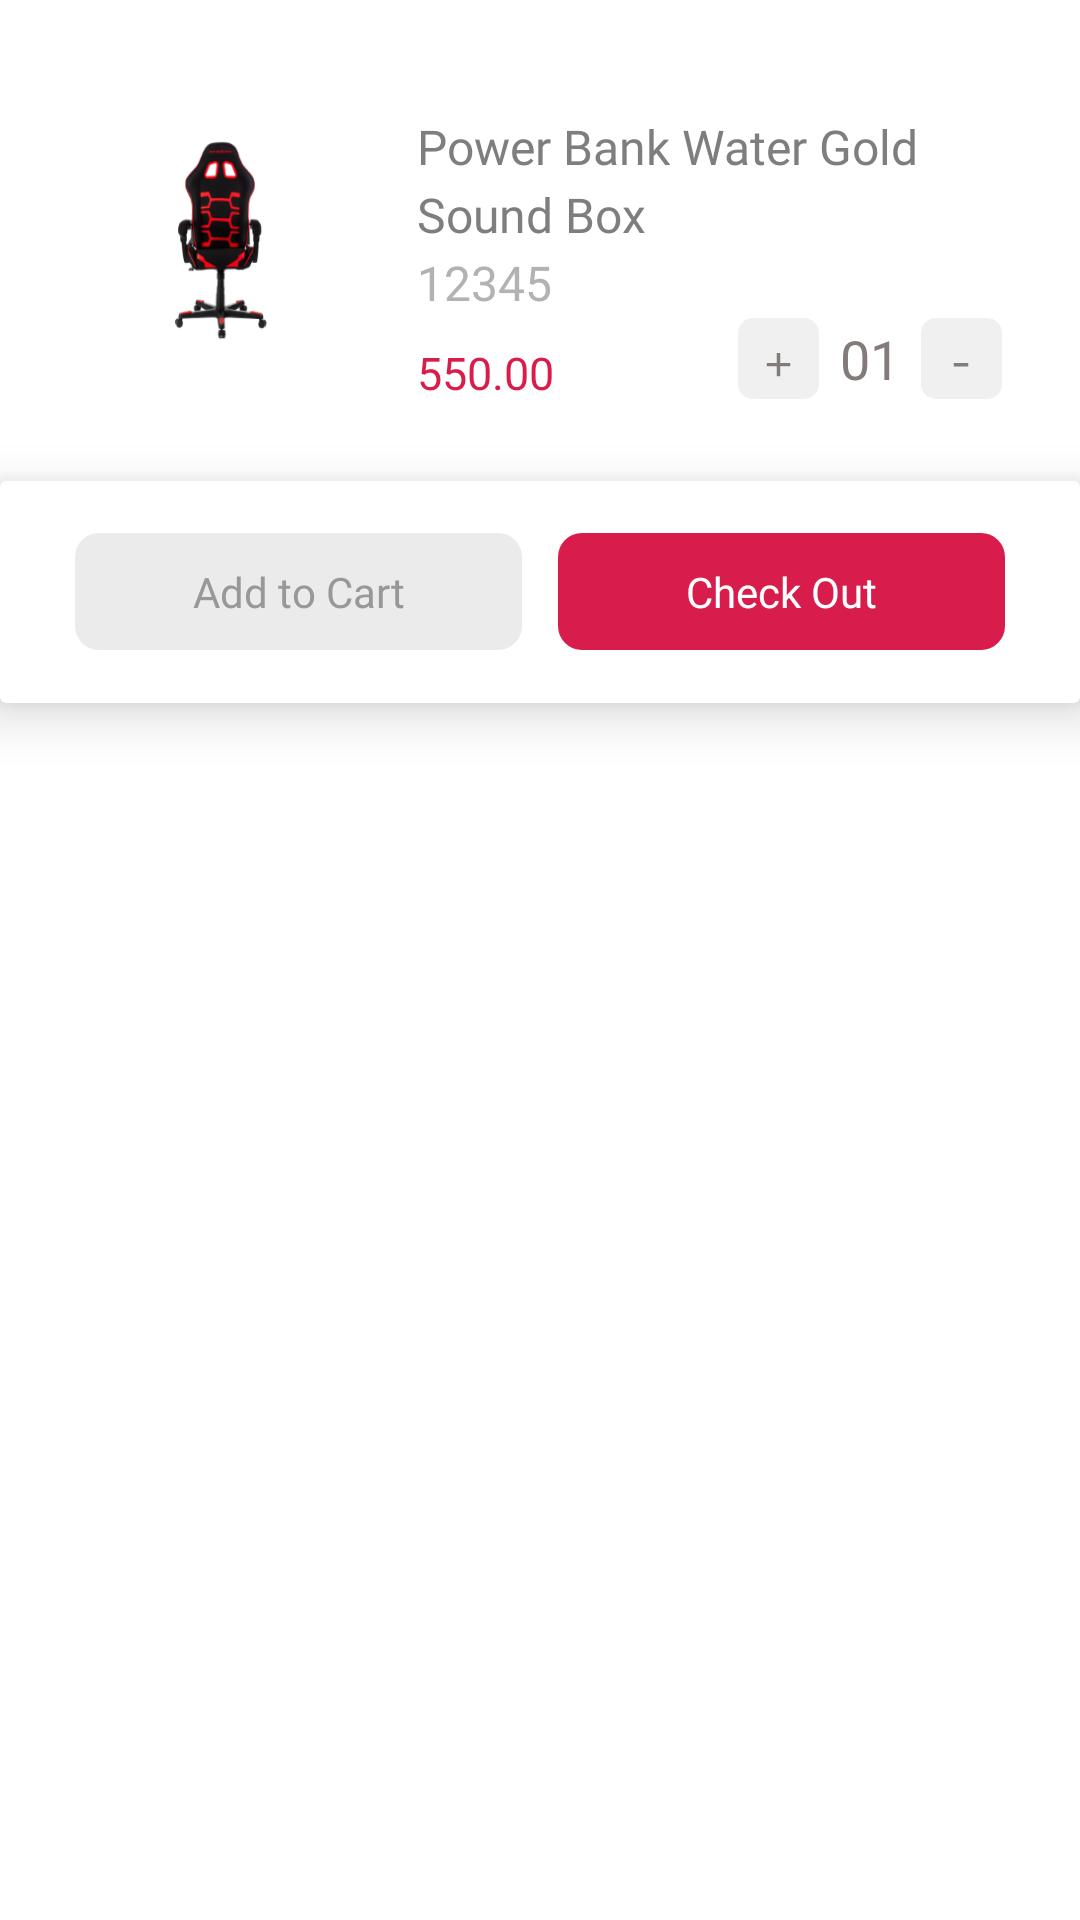

Point at icon controls on the screen. Image size 1080*1920, points as [x,y].
plus: [778,358]
